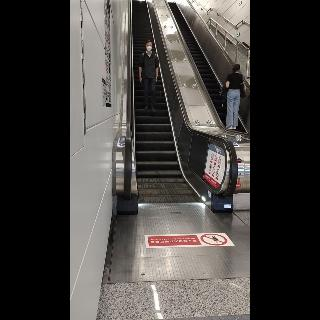normal: (220, 63, 246, 127), (139, 39, 161, 111)
